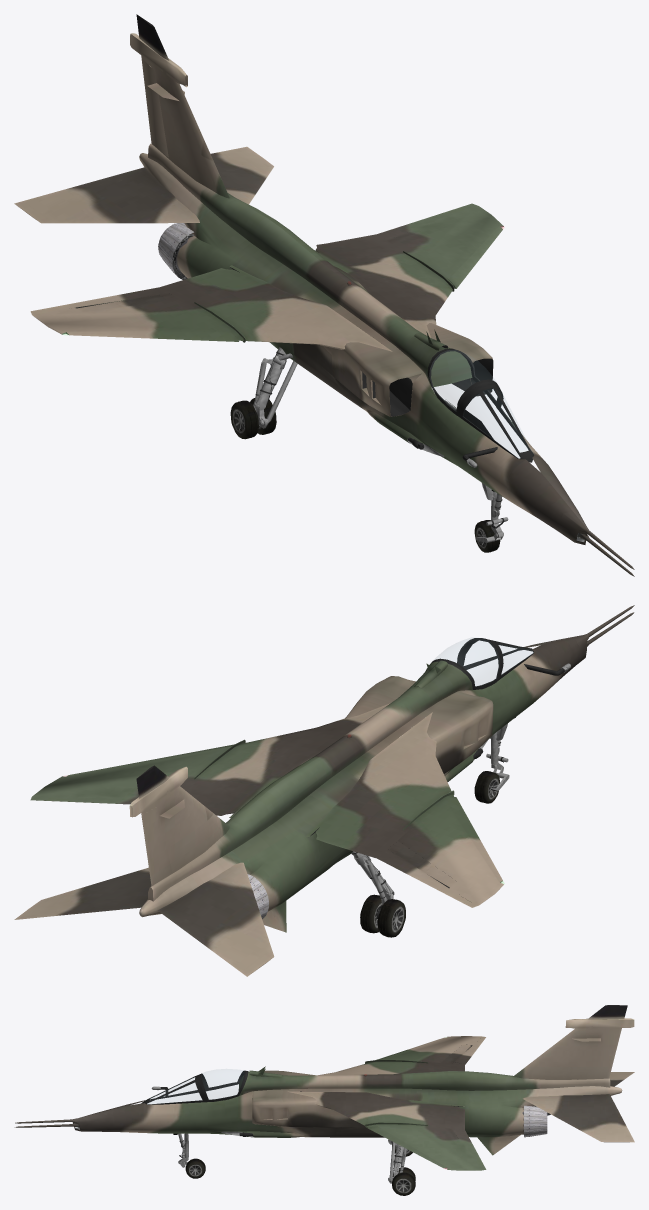
File: fighter_jaguar.glb
3 renders of one model, top to bottom at view 1: azimuth 30°, elevation 25°; view 2: azimuth 150°, elevation 25°; view 3: azimuth 270°, elevation 25°, orthographic. The views are drawn at different scales.
Parts seen in each view (by area): view 1: HDRverriere; view 2: HDRverriere; view 3: HDRverriere.
Boxes of the visible parts, x1,y1,x2,y2 form: HDRverriere: [14, 14, 634, 576]; HDRverriere: [14, 605, 634, 976]; HDRverriere: [14, 1005, 634, 1195].
Size of the model in its own units: 8.61 by 5.17 by 16.83.
Materials: 4 (4 with a texture image).
